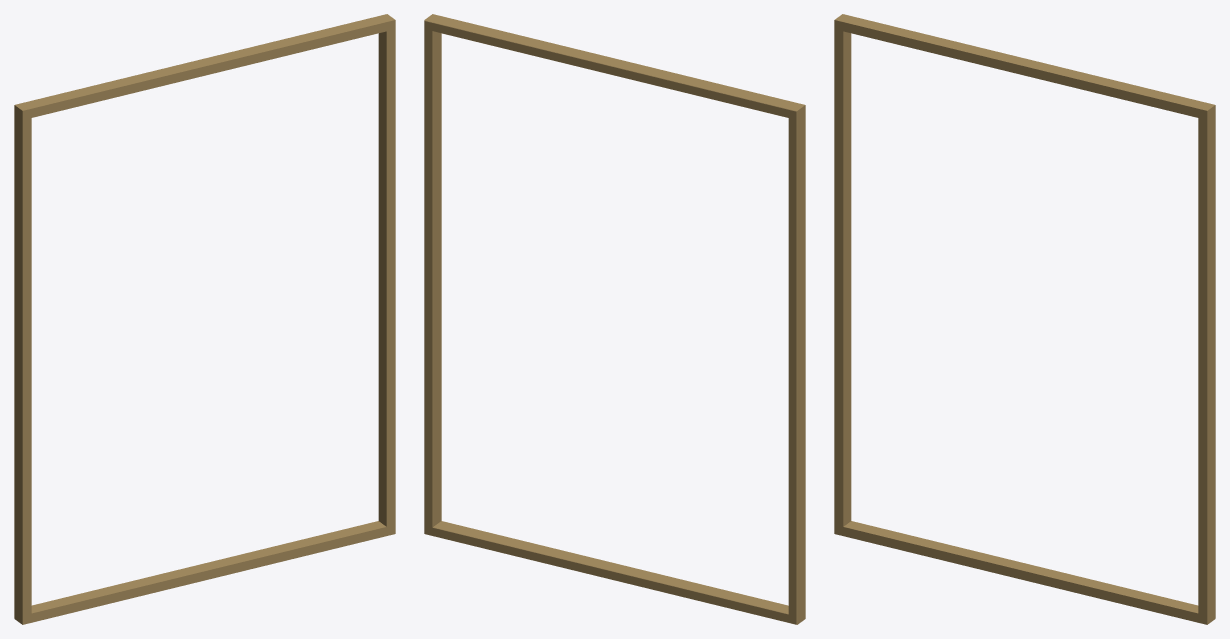
3 renders of one model, left to right at view 1: azimuth 30°, elevation 25°; view 2: azimuth 150°, elevation 25°; view 3: azimuth 330°, elevation 25°, orthographic.
Visible parts, largest first — view 1: Mitered_profile; view 2: Mitered_profile; view 3: Mitered_profile.
Boxes of the visible parts, x1,y1,x2,y2 form: Mitered_profile: [14, 14, 395, 624]; Mitered_profile: [424, 14, 805, 624]; Mitered_profile: [834, 14, 1215, 624].
Size of the model in its own units: 0.63 by 0.83 by 0.025.
